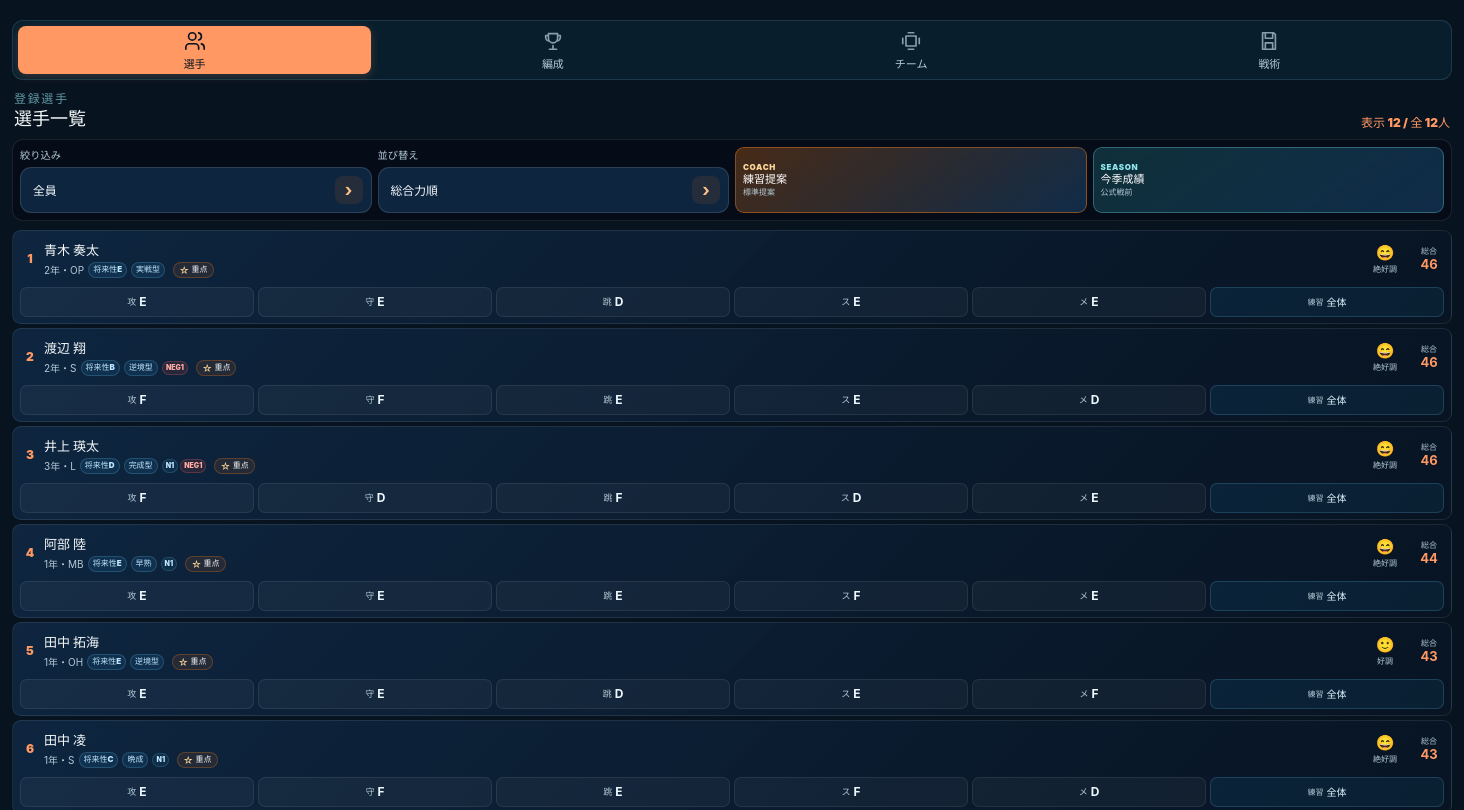
Test case: PlayerHubScreen › shows the player's role, trust, morale, and current concern
Click the button "田中 拓海".
click(72, 641)  # box x1=38 y1=627 x2=105 y2=655
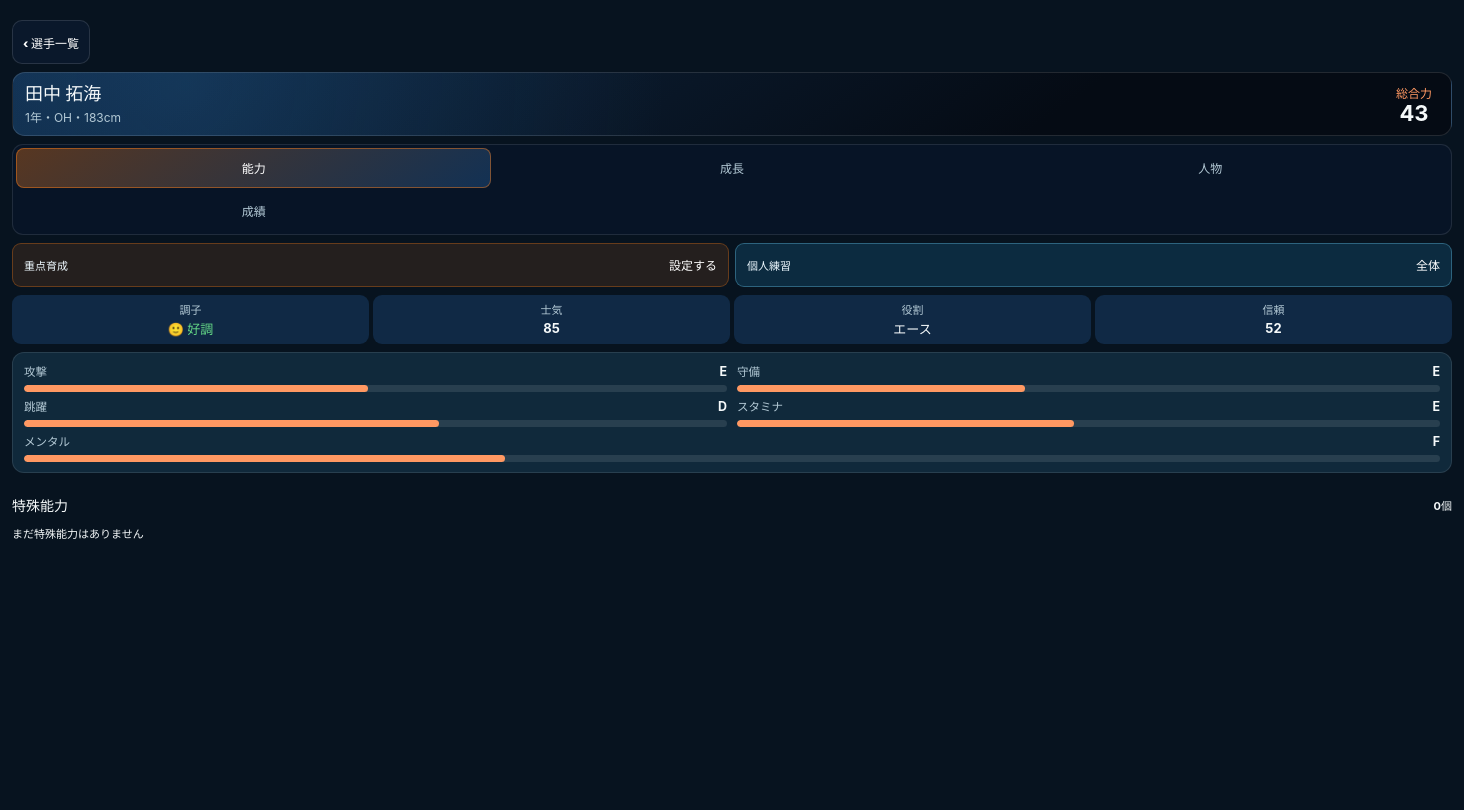
Expected: the text "エース" is shown, x1=893 y1=321 x2=932 y2=337
Expected: the text "信頼" is shown, x1=1262 y1=303 x2=1284 y2=317
Expected: the text "52" is shown, x1=1265 y1=320 x2=1282 y2=336
Click the button "人物".
click(1210, 168)  # box x1=973 y1=148 x2=1448 y2=188
(page scrolled)
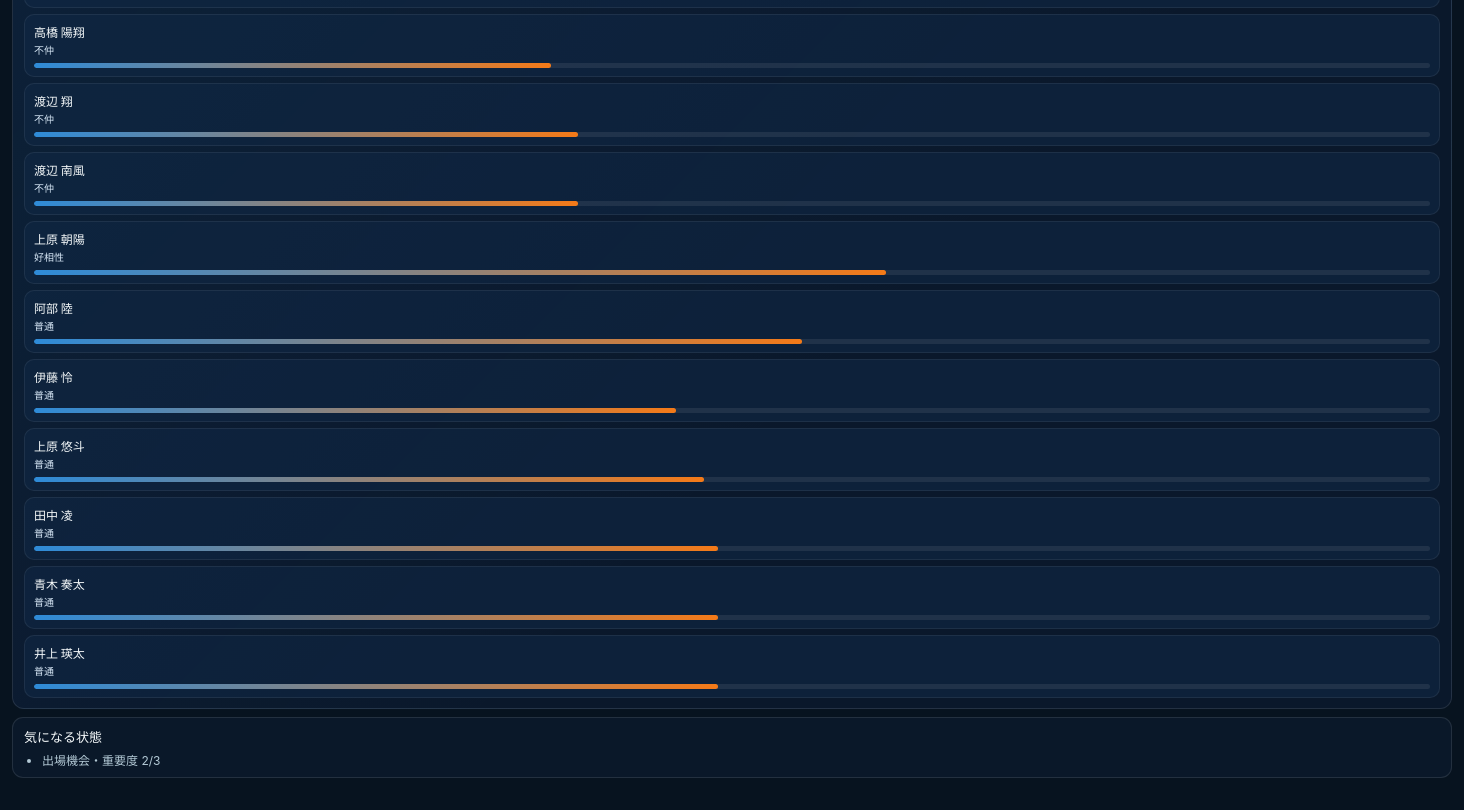
Expected: the list item "出場機会・重要度 2/3" is shown, x1=42 y1=753 x2=160 y2=768
